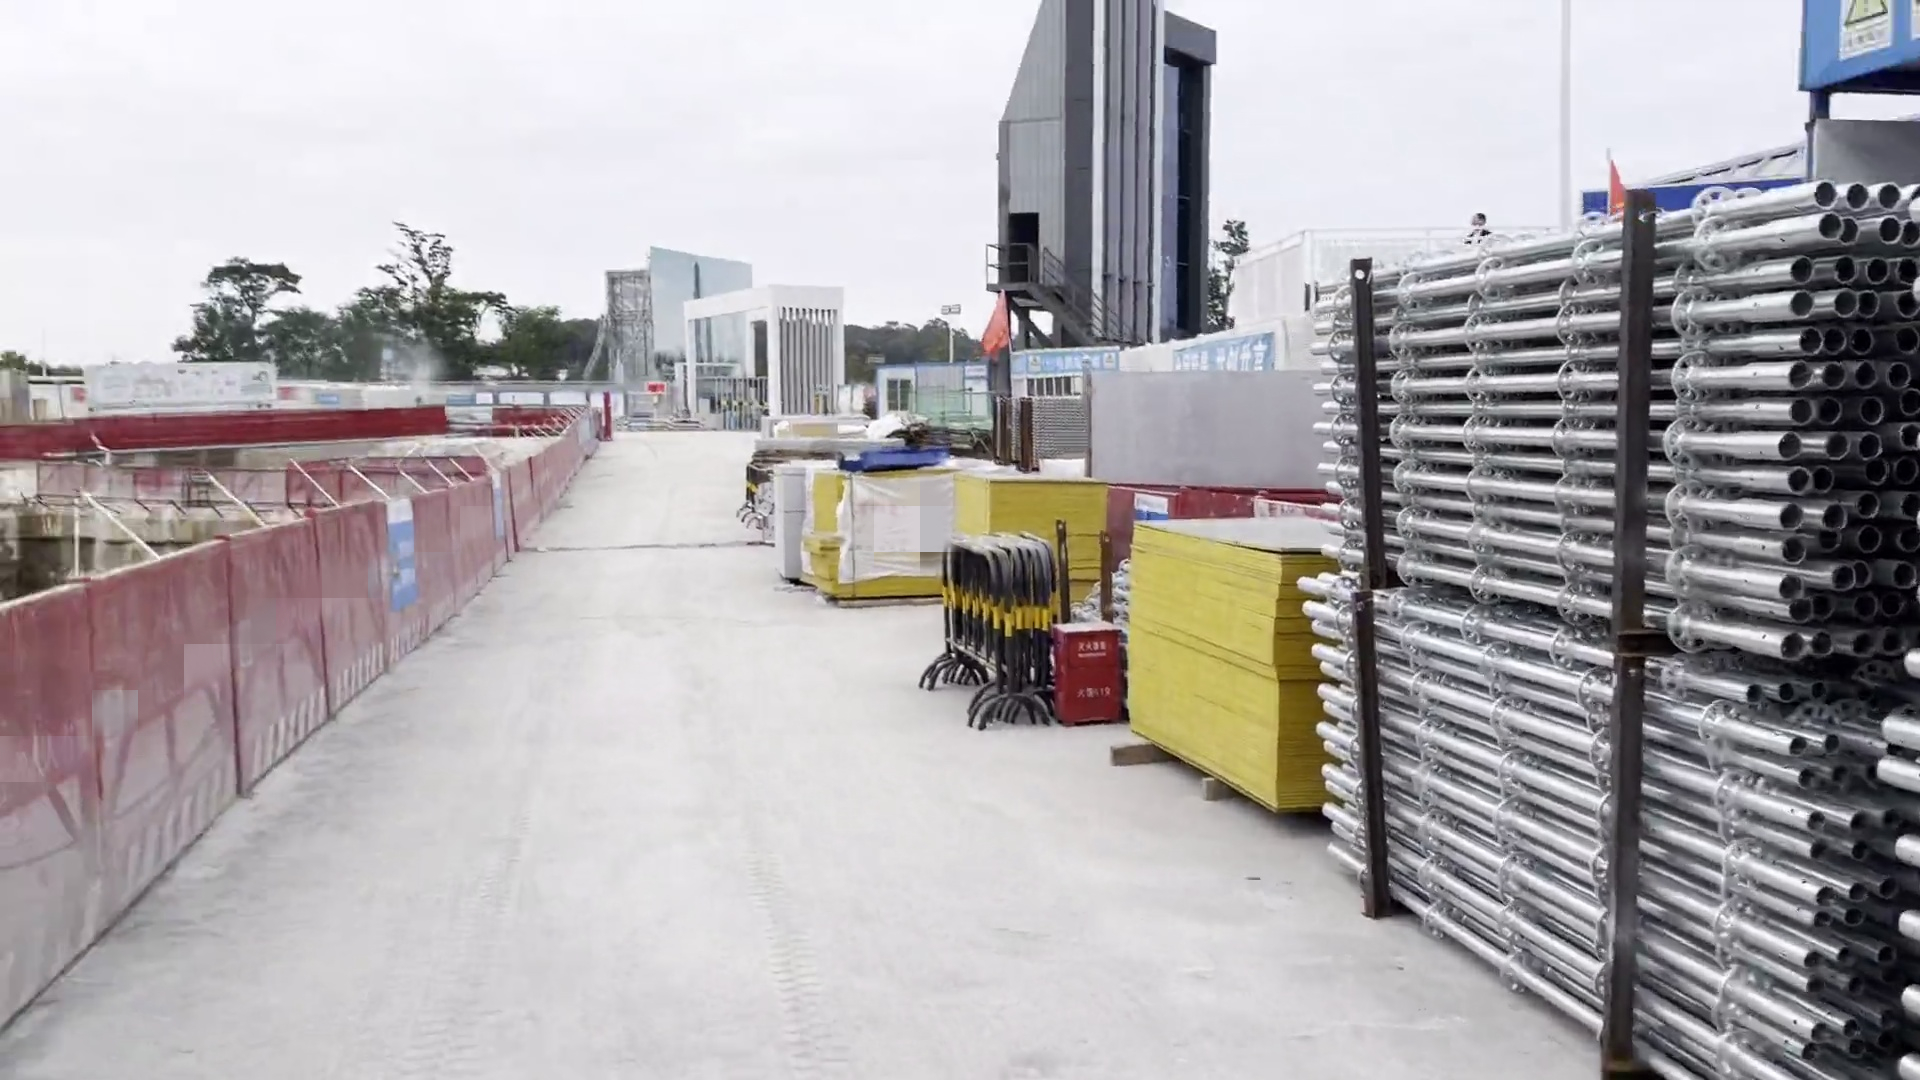board: (1101, 495, 1348, 833), (796, 460, 980, 608), (938, 473, 1108, 587)
fence: (7, 407, 599, 1048), (1, 406, 584, 454)
scaffold: (1271, 522, 1909, 1080), (1269, 196, 1920, 622)
